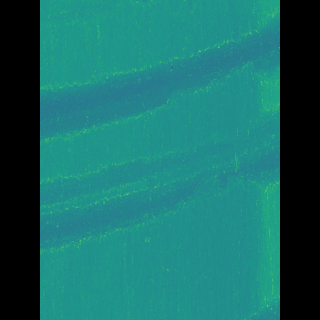Loch: (69, 109, 250, 257), (69, 14, 250, 144)
